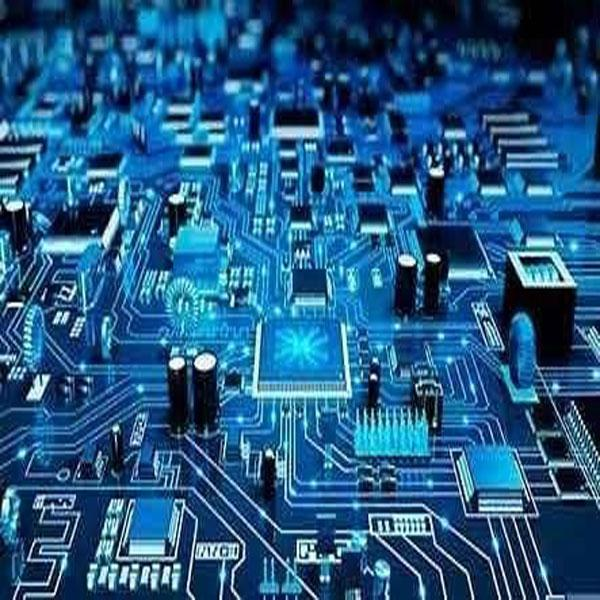componente_T: (96, 593, 106, 600)
